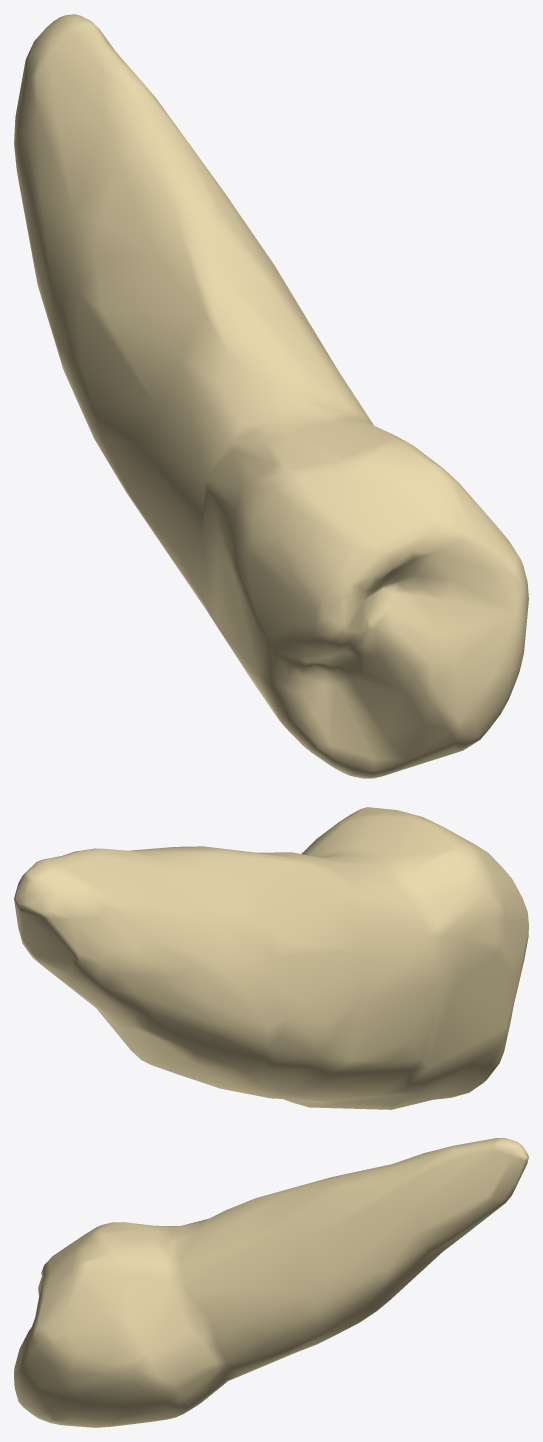
3 renders of one model, top to bottom at view 1: azimuth 30°, elevation 25°; view 2: azimuth 150°, elevation 25°; view 3: azimuth 270°, elevation 25°, orthographic. The views are drawn at different scales.
Visible parts, largest first — view 1: 左侧下颌第一前磨牙; view 2: 左侧下颌第一前磨牙; view 3: 左侧下颌第一前磨牙.
Boxes of the visible parts, x1,y1,x2,y2 form: 左侧下颌第一前磨牙: [14, 14, 528, 778]; 左侧下颌第一前磨牙: [14, 807, 528, 1109]; 左侧下颌第一前磨牙: [14, 1138, 528, 1427].
Size of the model in its own units: 0.0115 by 0.0204 by 0.0324.
